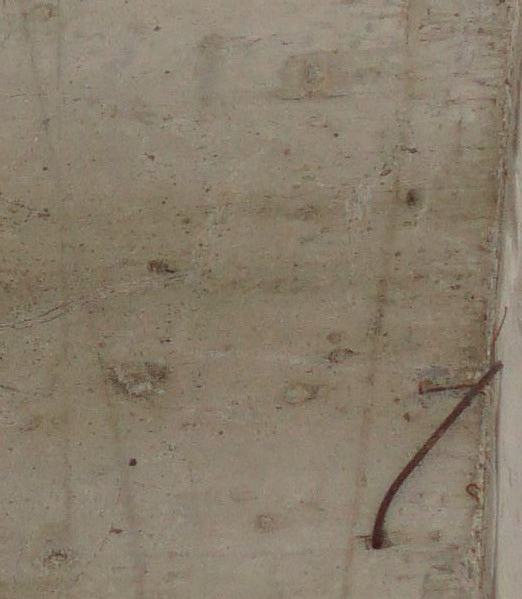Exposed reinforcement: (372, 359, 505, 550)
